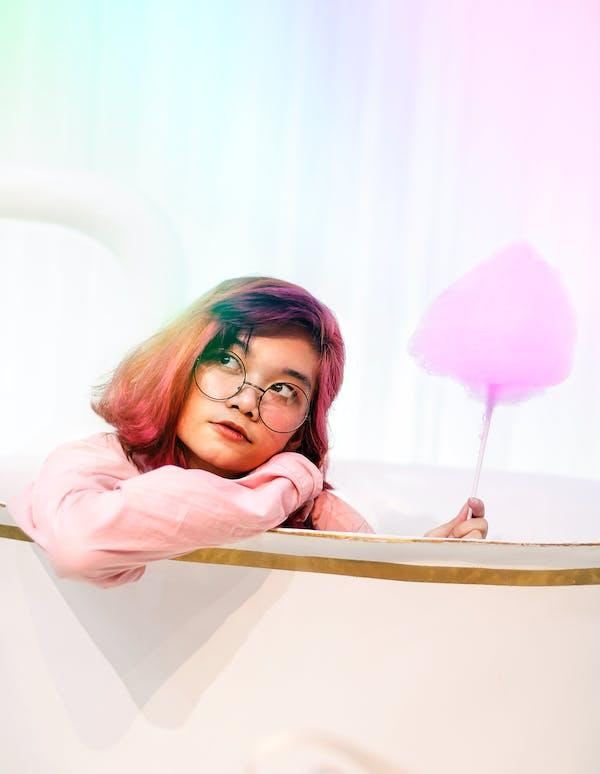eyeglasses: (176, 346, 344, 436)
